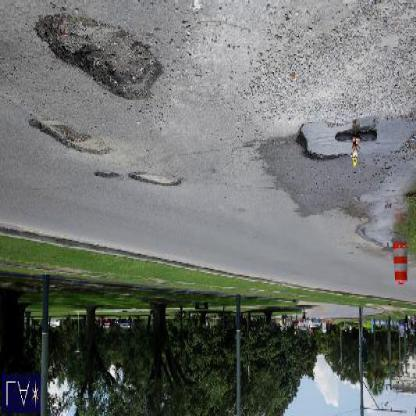pothole: (35, 11, 164, 104), (295, 114, 416, 168), (28, 118, 112, 159), (128, 176, 182, 190), (94, 172, 120, 181)
